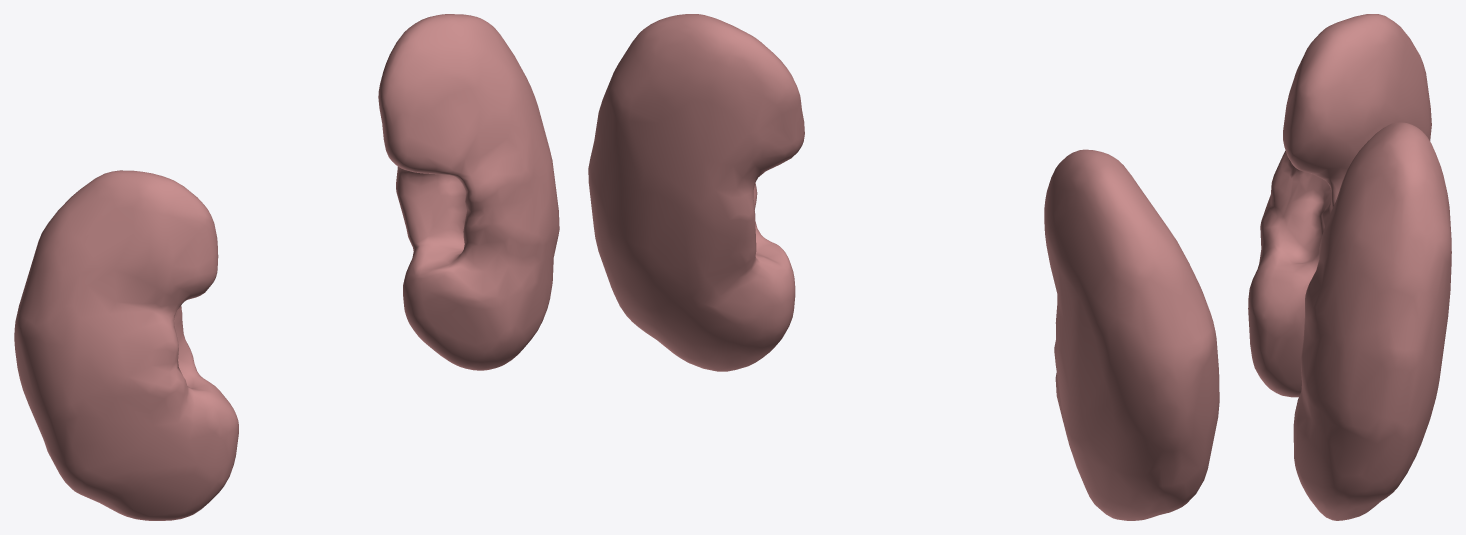
Rendered from reni-test.glb.
3 renders of one model, left to right at view 1: azimuth 30°, elevation 25°; view 2: azimuth 150°, elevation 25°; view 3: azimuth 270°, elevation 25°, orthographic. The views are drawn at different scales.
Parts seen in each view (by area): view 1: Kidney.r, Kidney.l; view 2: Kidney.l, Kidney.r; view 3: Kidney.l, Kidney.r.
Boxes of the visible parts, bbox=[...] form: Kidney.r: bbox=[14, 170, 238, 520]; Kidney.l: bbox=[378, 14, 559, 370]; Kidney.l: bbox=[588, 14, 804, 371]; Kidney.r: bbox=[1044, 149, 1219, 520]; Kidney.l: bbox=[1293, 122, 1451, 520]; Kidney.r: bbox=[1248, 14, 1431, 397].
Size of the model in its own units: 0.178 by 0.1236 by 0.0523.
